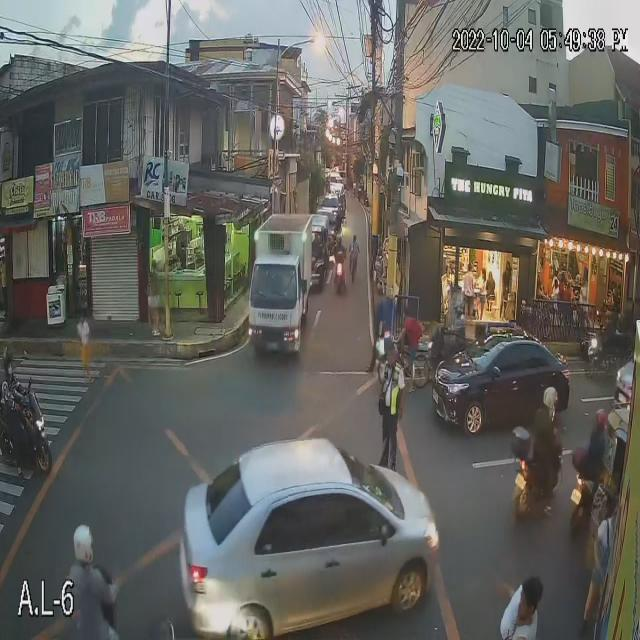helmet: (72, 524, 93, 563), (0, 350, 16, 384), (540, 386, 558, 415), (594, 410, 608, 436), (453, 299, 466, 320), (604, 310, 615, 329), (335, 236, 343, 248)
motorcycle: (0, 386, 51, 478), (511, 455, 561, 517), (429, 325, 471, 376), (568, 468, 601, 531), (587, 332, 606, 366), (332, 258, 348, 295)
rider: (68, 520, 112, 636), (529, 384, 567, 470), (583, 411, 611, 470), (446, 298, 470, 352), (2, 347, 21, 415), (599, 309, 615, 344), (331, 234, 345, 274)
